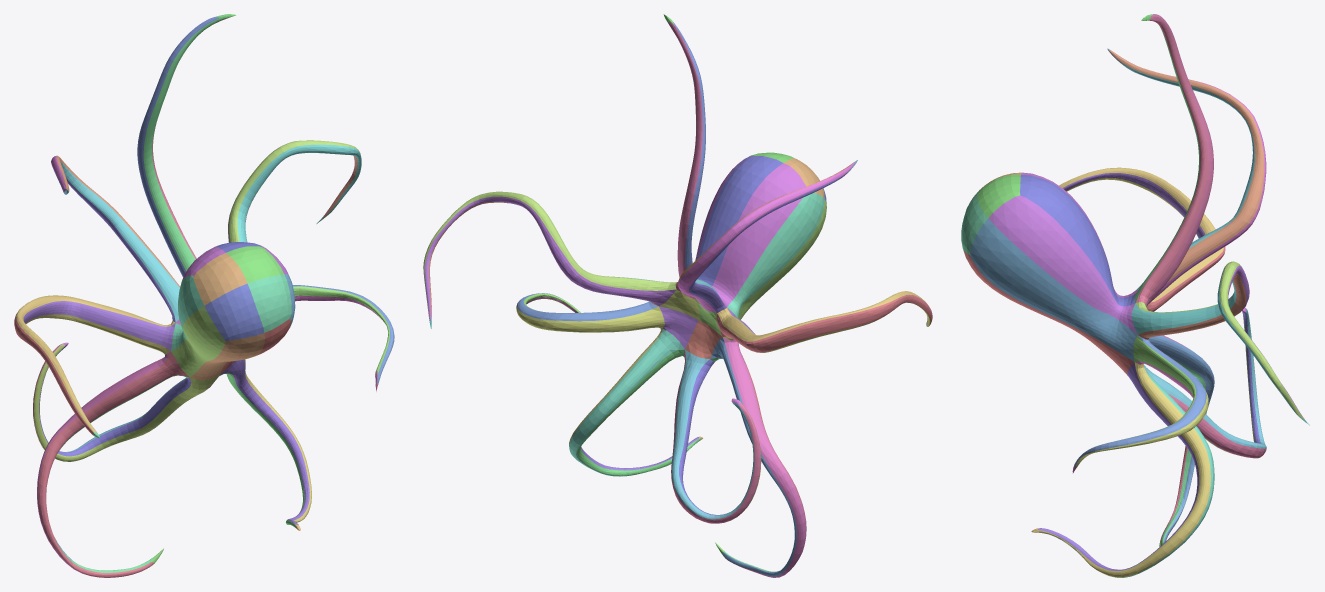
The model's file is 13_octopus_output.obj.
The picture shows the model from 3 angles, left to right: view 1: azimuth 30°, elevation 25°; view 2: azimuth 150°, elevation 25°; view 3: azimuth 270°, elevation 25°; orthographic projection. The views are drawn at different scales.
Bounding box in the file's own units: 0.8497 × 1.07 × 0.5934.
